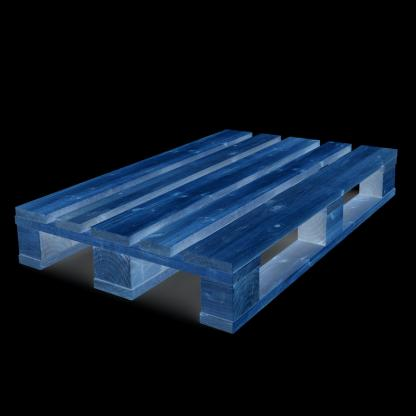BoxFace: (14, 128, 401, 336)
